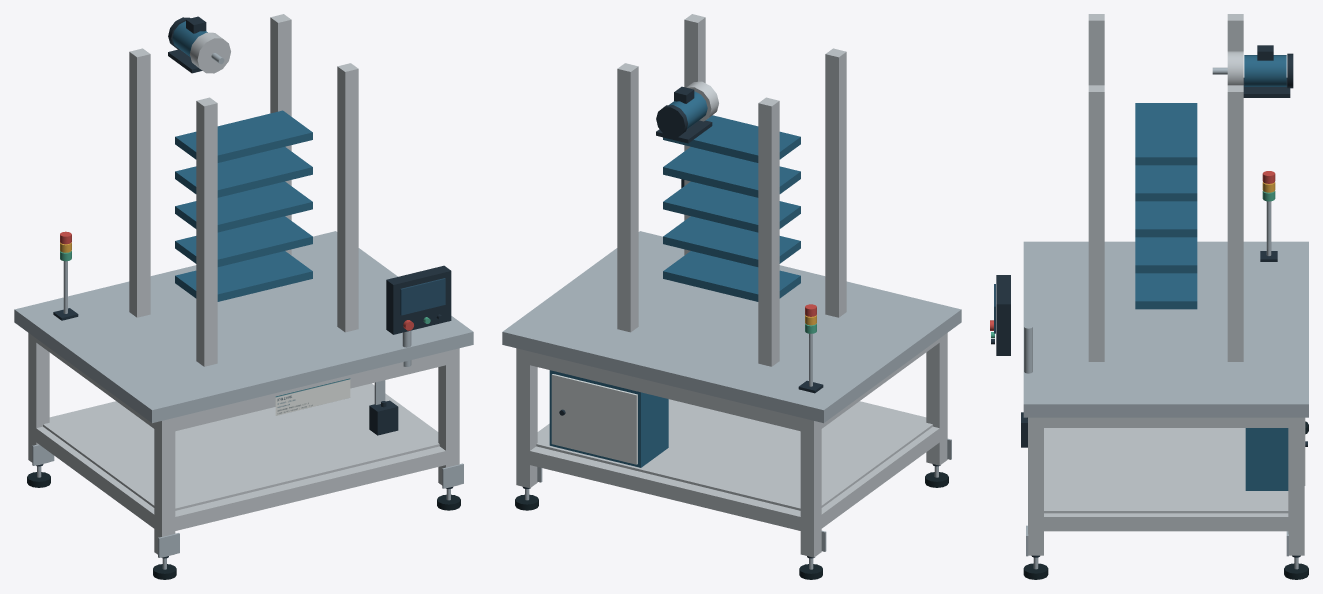
Rendered from step-feeder-cell.glb.
The picture shows the model from 3 angles, left to right: view 1: azimuth 30°, elevation 25°; view 2: azimuth 150°, elevation 25°; view 3: azimuth 270°, elevation 25°; orthographic projection. The views are drawn at different scales.
Parts seen in each view (by area): view 1: ClosedMachineBed_28, LowerShelf_29, SlottedExtrusion_49, SlottedExtrusion_48, SlottedExtrusion_51, SlottedExtrusion_22, CarrierStep_56, CarrierStep_54, CarrierStep_52, CarrierStep_53, CarrierStep_55, SlottedExtrusion_23 (+10 smaller); view 2: ClosedMachineBed_28, LowerShelf_29, BackDoor_31, SlottedExtrusion_48, SlottedExtrusion_49, SlottedExtrusion_50, SlottedExtrusion_20, SlottedExtrusion_21, CarrierStep_54, CarrierStep_52, CarrierStep_53, CarrierStep_55 (+10 smaller); view 3: ClosedMachineBed_28, LowerShelf_29, SlottedExtrusion_26, SlottedExtrusion_50, SlottedExtrusion_51, CarrierStep_56, SlottedExtrusion_27, Cabinet_30, CarrierStep_52, CarrierStep_53, CarrierStep_54, CarrierStep_55 (+9 smaller).
Part boxes in pixels (x1,y1,x2,y2): ClosedMachineBed_28: [14, 231, 473, 423]; LowerShelf_29: [43, 384, 439, 510]; SlottedExtrusion_49: [196, 97, 217, 366]; SlottedExtrusion_48: [129, 48, 150, 317]; SlottedExtrusion_51: [337, 63, 358, 332]; SlottedExtrusion_22: [175, 446, 452, 530]; CarrierStep_56: [175, 110, 312, 162]; CarrierStep_54: [175, 181, 312, 232]; CarrierStep_52: [175, 251, 312, 301]; CarrierStep_53: [175, 216, 312, 266]; CarrierStep_55: [175, 147, 312, 197]; SlottedExtrusion_23: [175, 350, 452, 431]; ClosedMachineBed_28: [502, 231, 961, 423]; LowerShelf_29: [536, 399, 932, 510]; BackDoor_31: [551, 374, 637, 464]; SlottedExtrusion_48: [758, 97, 779, 366]; SlottedExtrusion_49: [825, 48, 846, 317]; SlottedExtrusion_50: [617, 63, 638, 332]; SlottedExtrusion_20: [530, 446, 807, 532]; SlottedExtrusion_21: [523, 350, 807, 432]; CarrierStep_54: [663, 181, 800, 232]; CarrierStep_52: [663, 251, 800, 301]; CarrierStep_53: [663, 216, 800, 266]; CarrierStep_55: [663, 147, 800, 197]; ClosedMachineBed_28: [1023, 241, 1308, 417]; LowerShelf_29: [1044, 428, 1288, 513]; SlottedExtrusion_26: [1036, 513, 1296, 531]; SlottedExtrusion_50: [1227, 85, 1243, 361]; SlottedExtrusion_51: [1088, 85, 1104, 361]; CarrierStep_56: [1135, 103, 1197, 165]; SlottedExtrusion_27: [1036, 417, 1296, 427]; Cabinet_30: [1245, 428, 1288, 490]; CarrierStep_52: [1135, 273, 1197, 309]; CarrierStep_53: [1135, 237, 1197, 273]; CarrierStep_54: [1135, 201, 1197, 237]; CarrierStep_55: [1135, 165, 1197, 201].
Size of the model in its own units: 1.55 by 2.02 by 1.29.
Materials: 11 (1 with a texture image).
